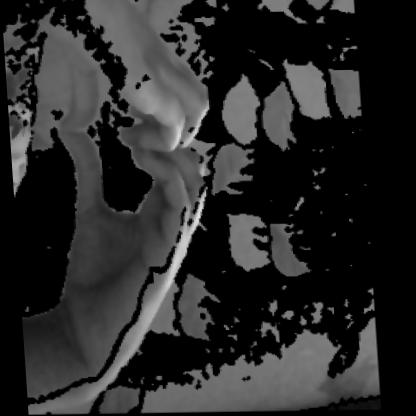heart: (24, 20, 216, 320)
